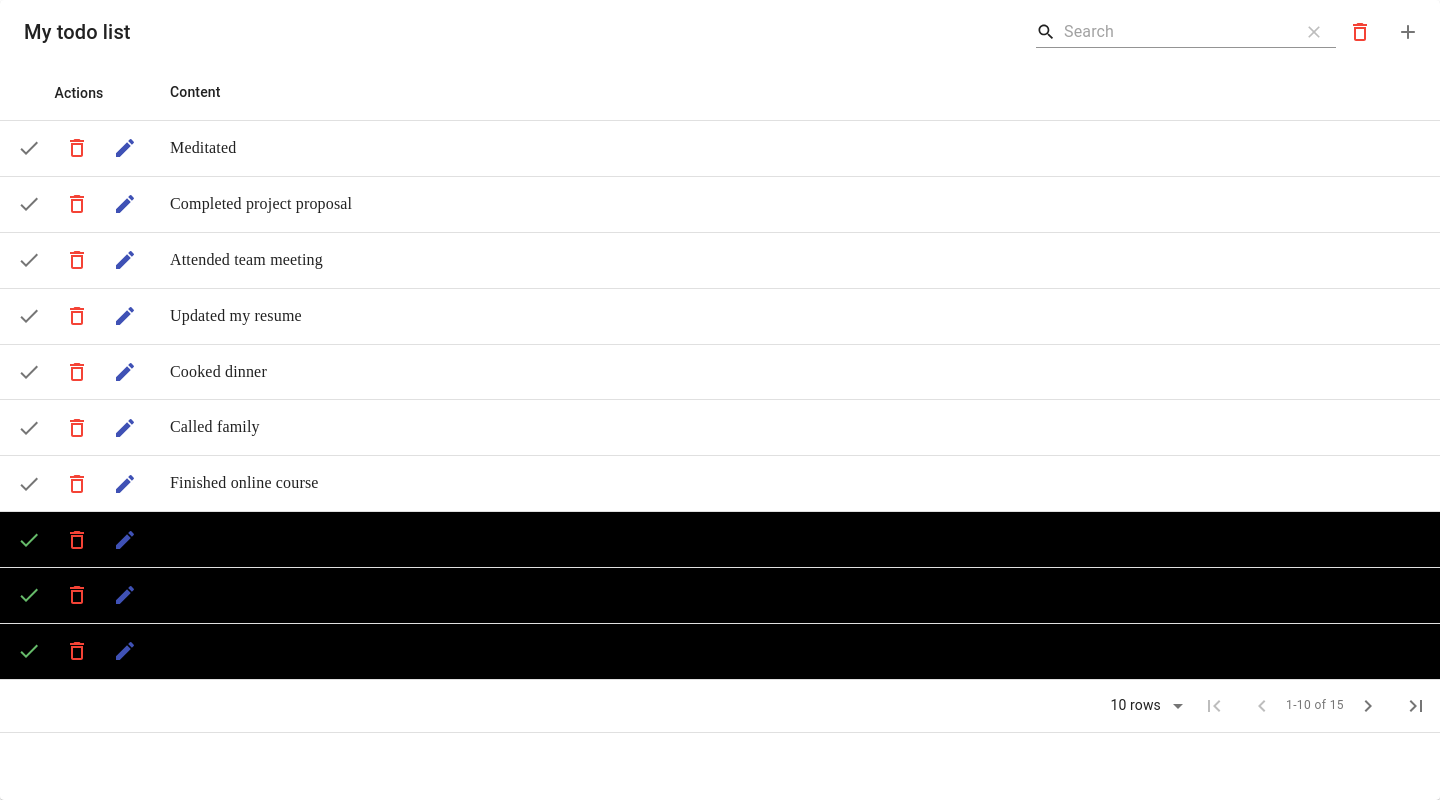
Test case: Should cover all functionalities from the todo list app in desktop environment › Should delete all tasks
The image size is (1440, 800).
Click the icon with test id "btn-delete-all" at (1360, 32), box [1348,20,1372,44]
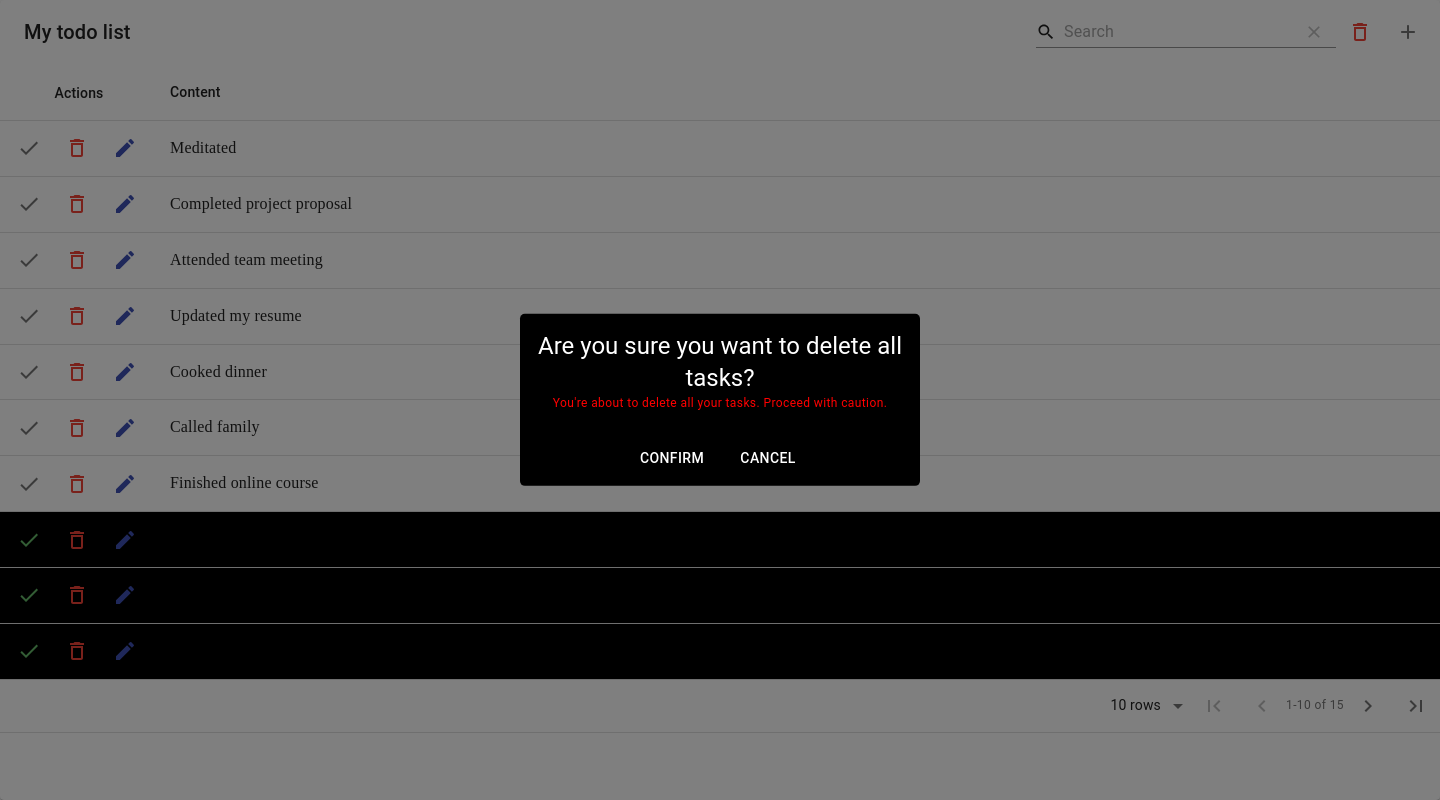
Click the button with test id "btn-confirm-delete-all" at (672, 459), box [640,446,704,471]
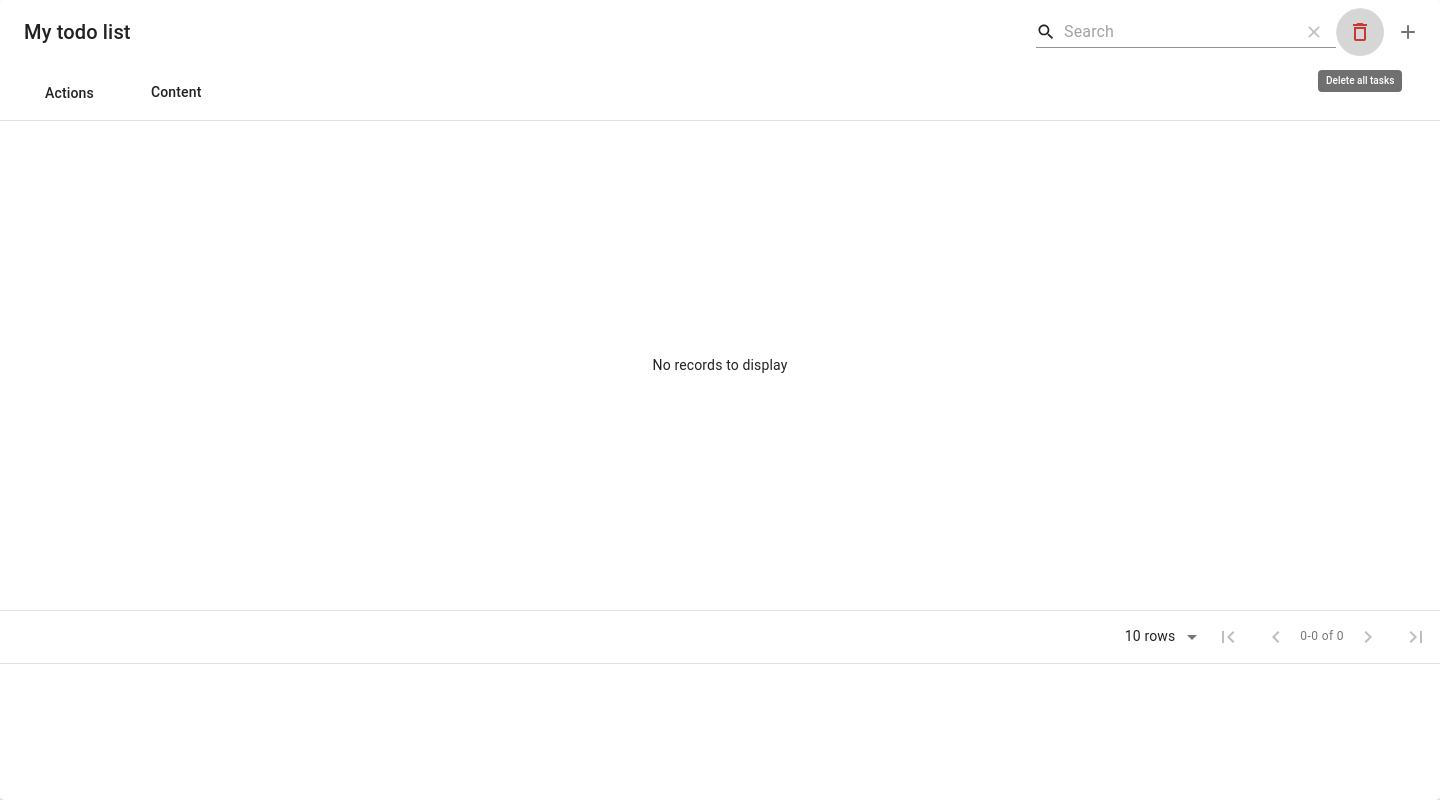
Check: the cell "Meditated" is gone
Check: the cell "Completed project proposal" is gone
Check: the cell "Attended team meeting" is gone
